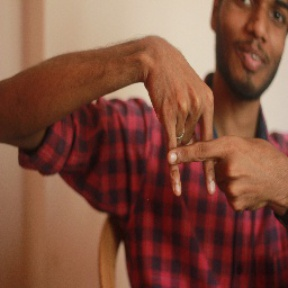H: (139, 102, 246, 216)
